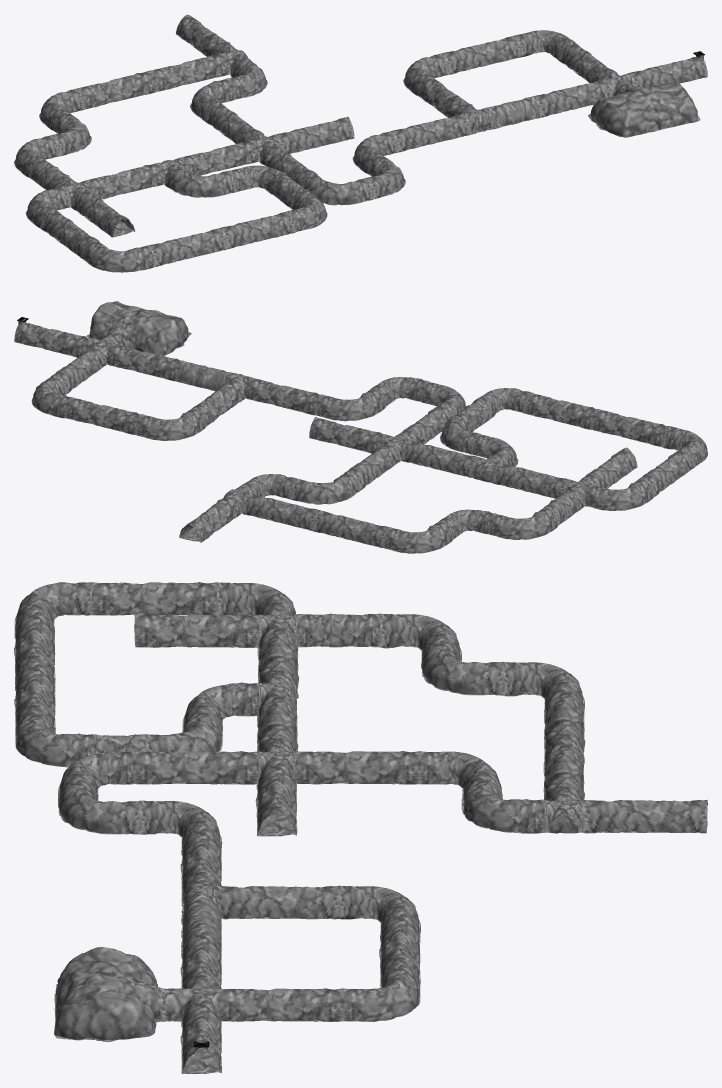
The model's file is tunnel.glb.
3 views of the same model, one above another, from view 1: azimuth 30°, elevation 25°; view 2: azimuth 150°, elevation 25°; view 3: azimuth 270°, elevation 25° (orthographic). The views are drawn at different scales.
Parts seen in each view (by area): view 1: Plane.004; view 2: Plane.004; view 3: Plane.004.
Part boxes in pixels (bbox=[...]): Plane.004: bbox=[14, 14, 707, 272]; Plane.004: bbox=[14, 301, 707, 553]; Plane.004: bbox=[14, 582, 707, 1073].
Size of the model in its own units: 199 by 7.82 by 122.
88 materials, 86 textured.
